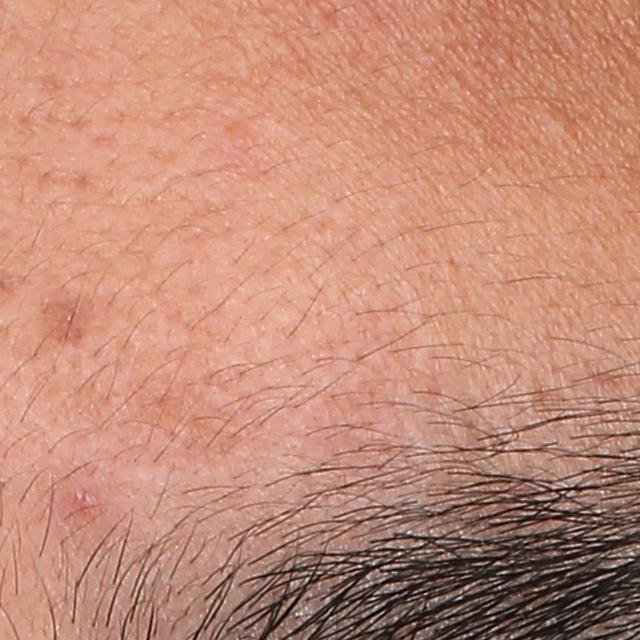comedo: (542, 107, 583, 144)
papule: (62, 483, 106, 522)
